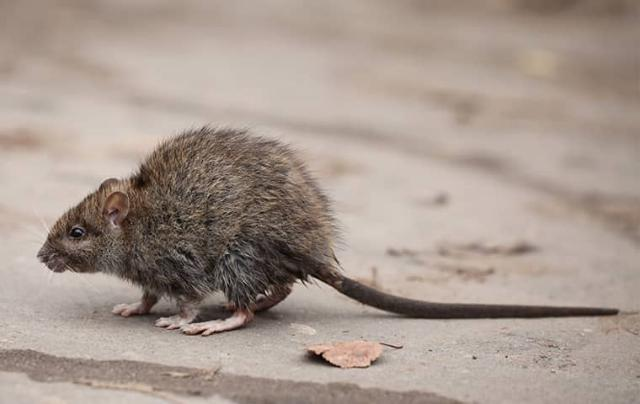rat: (28, 119, 366, 339)
